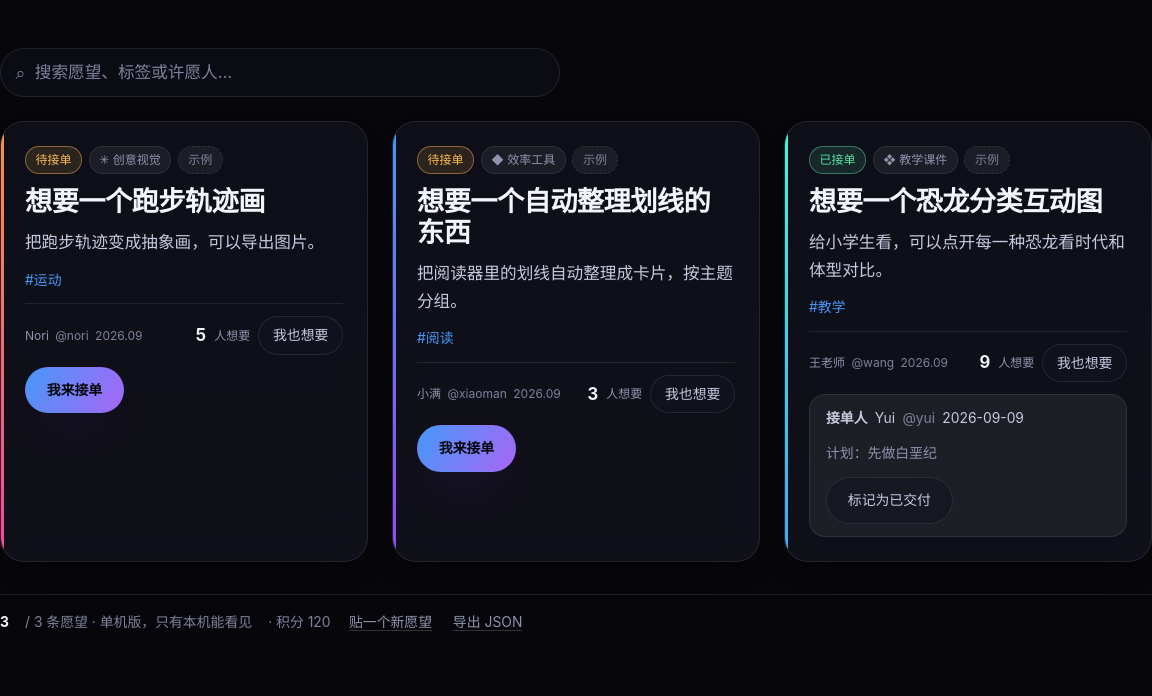
Scenario: WishesPage › 接单：填署名后愿望进入已接单并显示接单人
Click the button "我来接单" below "效率工具".
click(466, 449)  # box top-left (417, 426), bottom-right (516, 472)
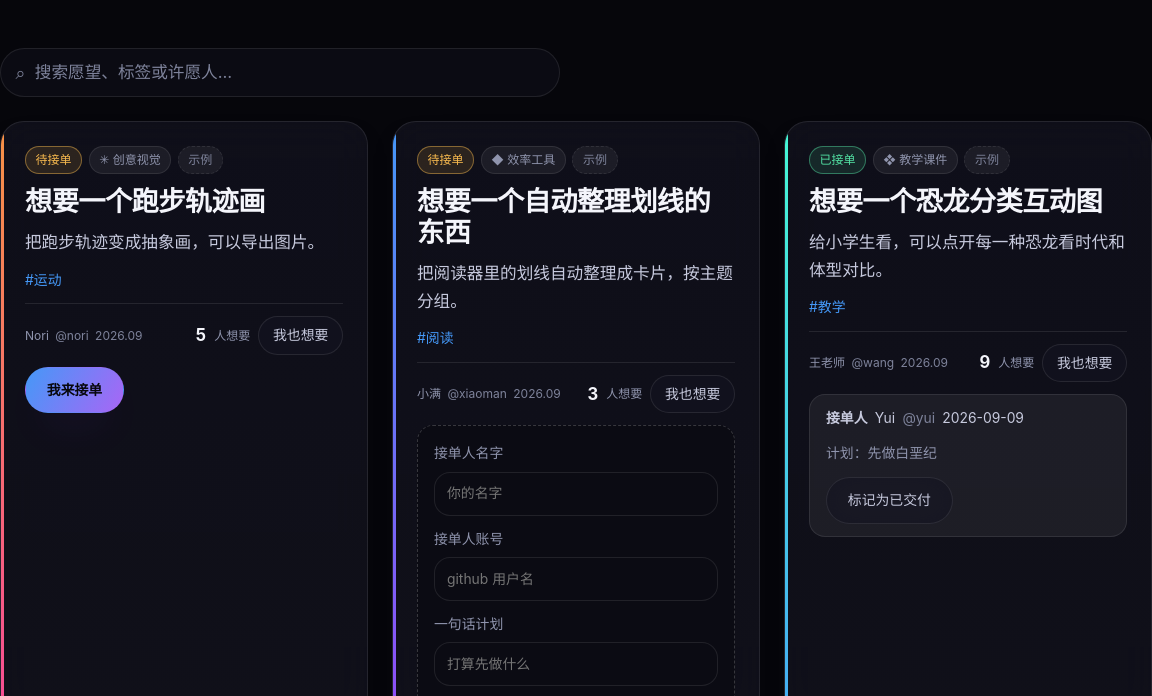
Type "a-dao" into the field labelled "接单人账号".
click(576, 579); type("a-dao")  # box top-left (434, 557), bottom-right (718, 601)
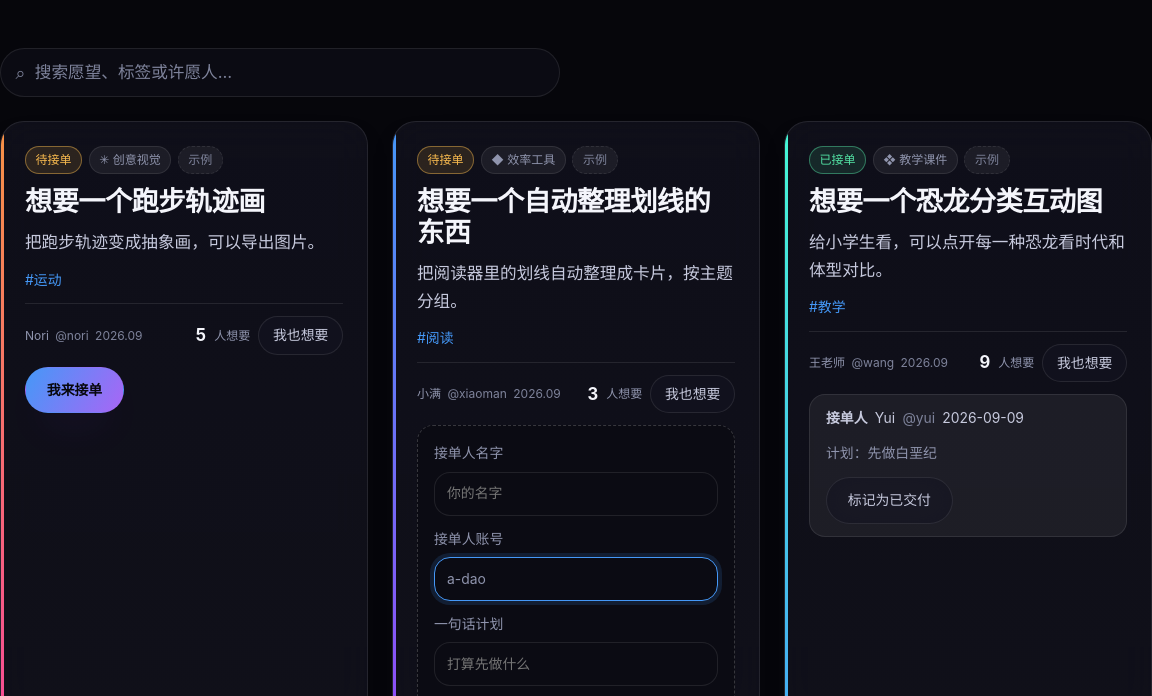
Type "先做导入和分组" into the field labelled "一句话计划".
click(576, 664); type("先做导入和分组")  # box top-left (434, 642), bottom-right (718, 686)
(page scrolled)
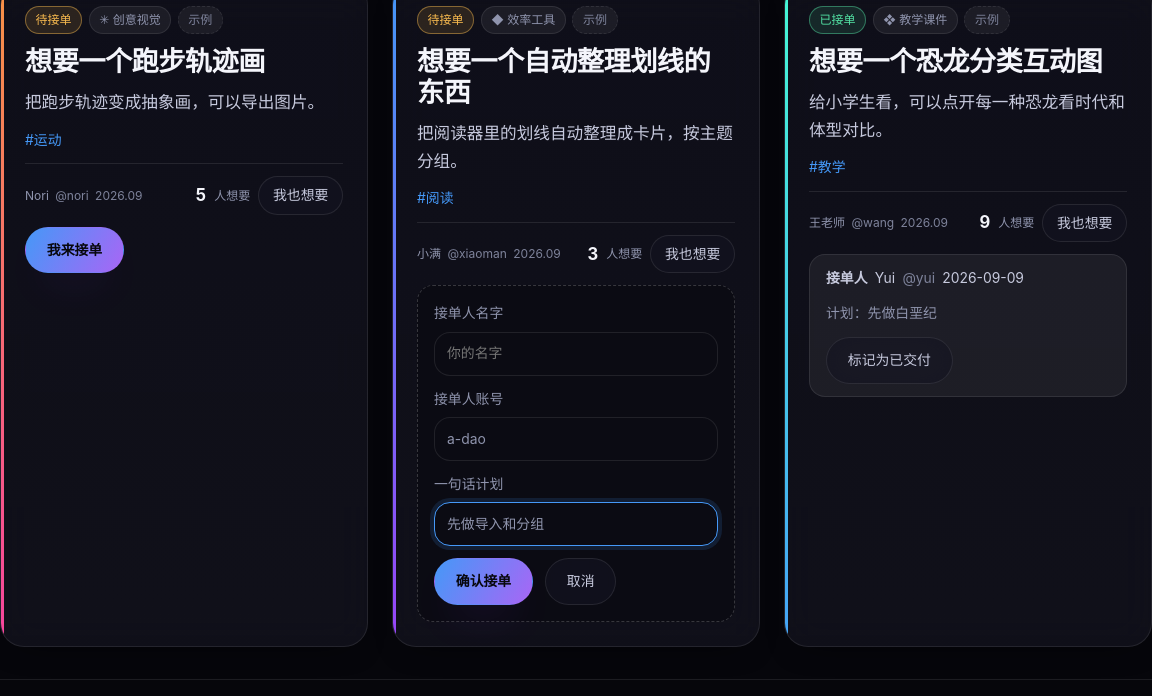
Click the button "确认接单".
click(484, 582)  # box top-left (434, 558), bottom-right (533, 605)
(page scrolled)
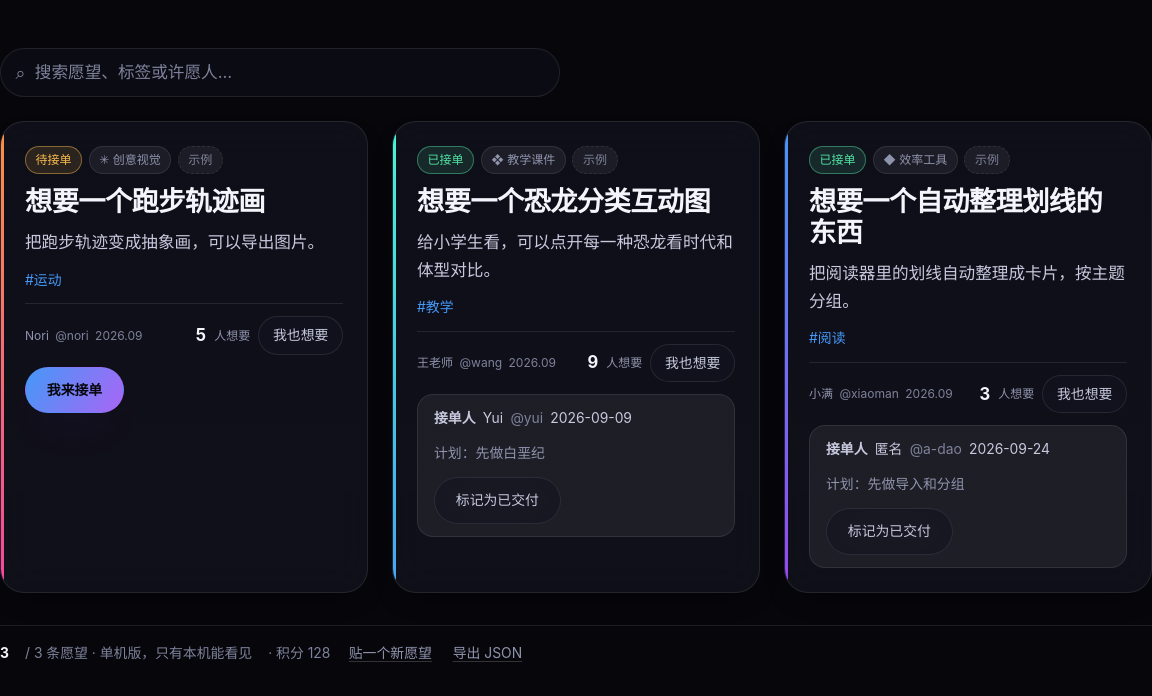
Result: the list item with test id "wish-card-seed-one" shows "已接单" at top-left (820, 152), bottom-right (856, 167)
Result: the list item with test id "wish-card-seed-one" shows "a-dao" at top-left (923, 442), bottom-right (962, 458)
